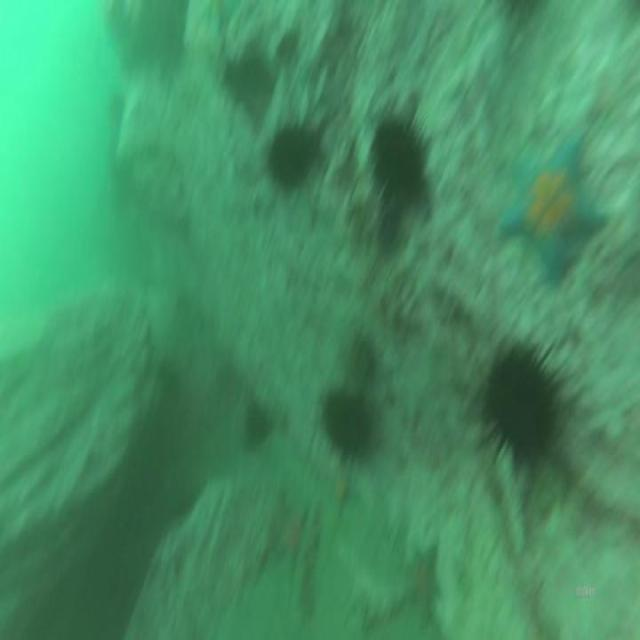echinus: (487, 350, 557, 450), (372, 122, 428, 204), (319, 392, 372, 449), (269, 126, 321, 182), (221, 52, 275, 98), (244, 401, 270, 444)
starfish: (502, 136, 610, 273), (275, 506, 313, 562), (406, 545, 436, 615)
